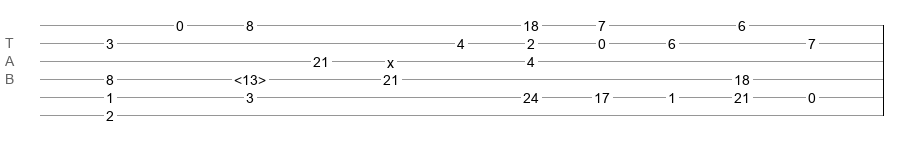0: (176, 18, 184, 28), (598, 36, 606, 46), (808, 90, 816, 100)
1: (106, 90, 114, 100), (668, 90, 676, 100)
17: (594, 90, 610, 100)
18: (523, 18, 539, 28), (734, 72, 750, 82)
2: (106, 108, 114, 118), (527, 36, 535, 46)
21: (313, 54, 329, 64), (383, 72, 399, 82), (734, 90, 750, 100)
24: (523, 90, 539, 100)
3: (106, 36, 114, 46), (246, 90, 254, 100)
4: (457, 36, 465, 46), (527, 54, 535, 64)
6: (668, 36, 676, 46), (738, 18, 746, 28)
7: (598, 18, 606, 28), (808, 36, 816, 46)
8: (106, 72, 114, 82), (246, 18, 254, 28)
harmonic: (234, 72, 266, 82)
x: (387, 55, 394, 63)
